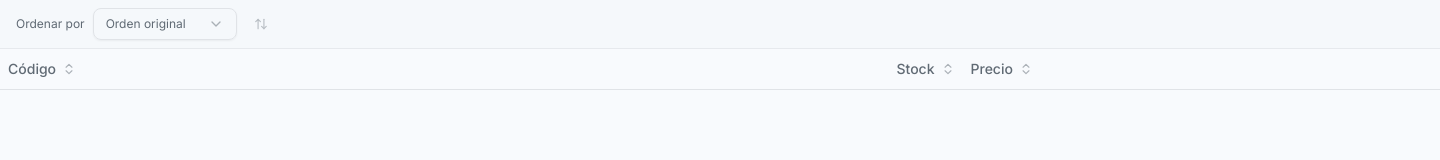
Scenario: el aviso de por dónde va la tabla › con la tabla ordenada dice por dónde y ofrece volver
Click the button "Stock" at (915, 68), box 520,55 -> 954,83
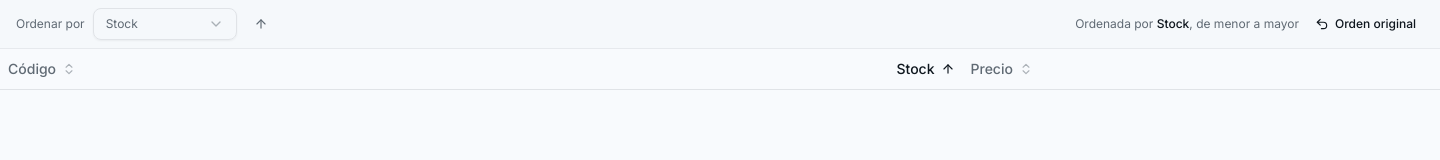
Check: the text "Stock" is shown, box 106,16 -> 138,32
Check: the text "Ordenada por" is shown, box 1075,16 -> 1153,31
Check: the text "de menor a mayor" is shown, box 1189,16 -> 1299,31
Click the button "Orden original" at (1366, 24), box 1307,12 -> 1424,36
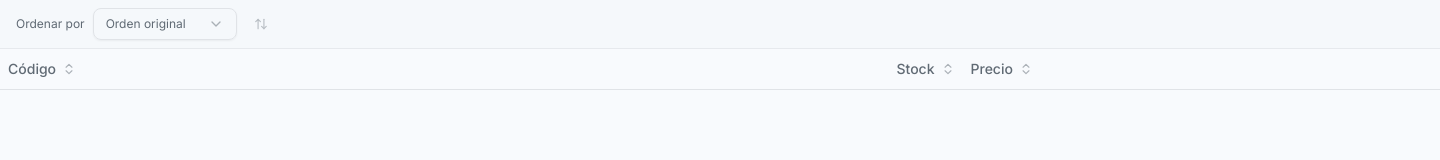
Check: the text "Ordenada por" is gone
